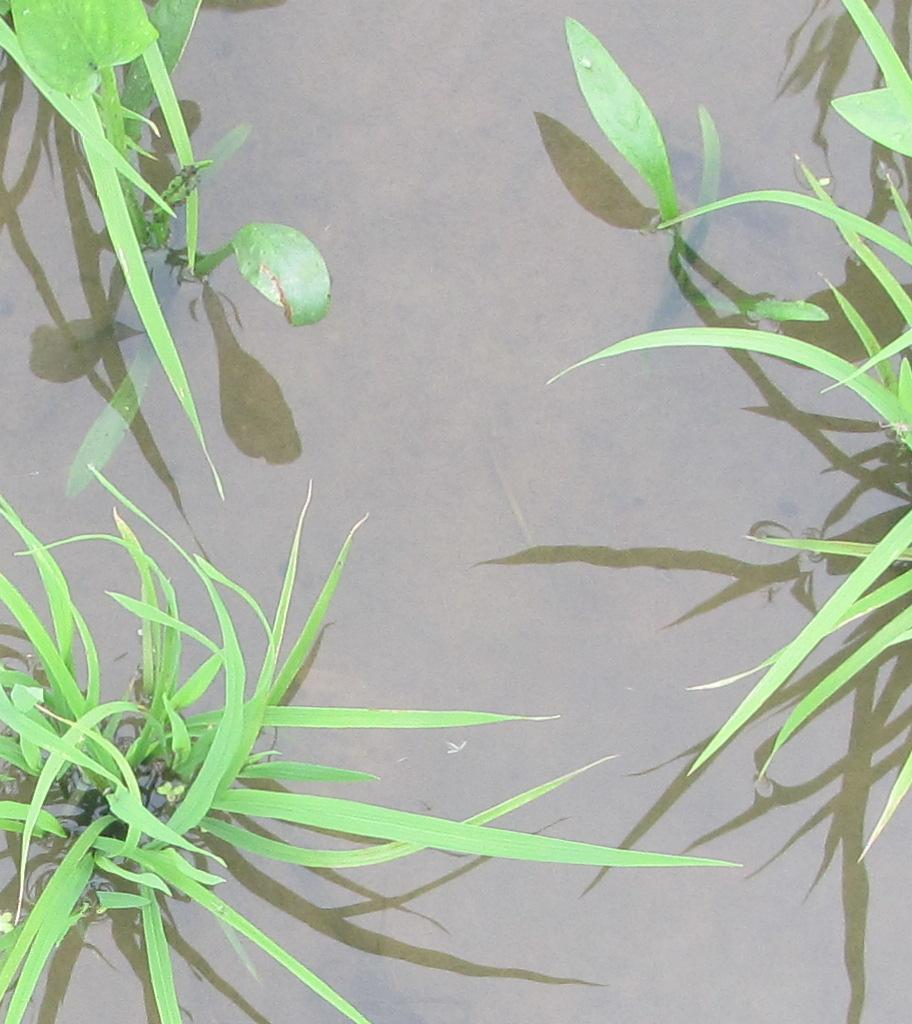Weed: (8, 3, 341, 330), (553, 13, 689, 211)
